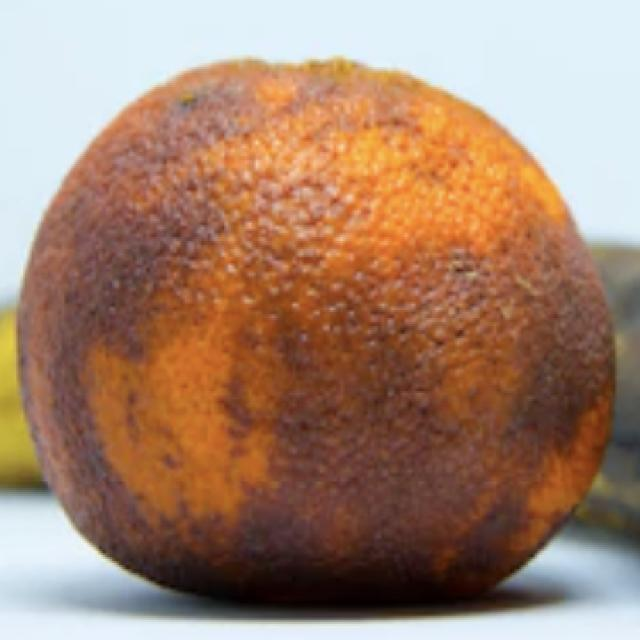rotten-orange: (18, 54, 617, 615)
